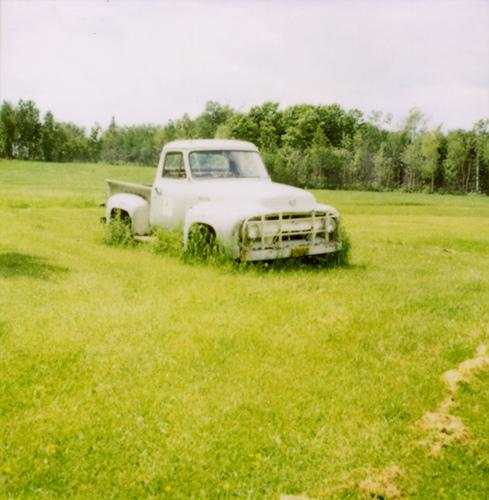truck: (99, 135, 350, 277)
